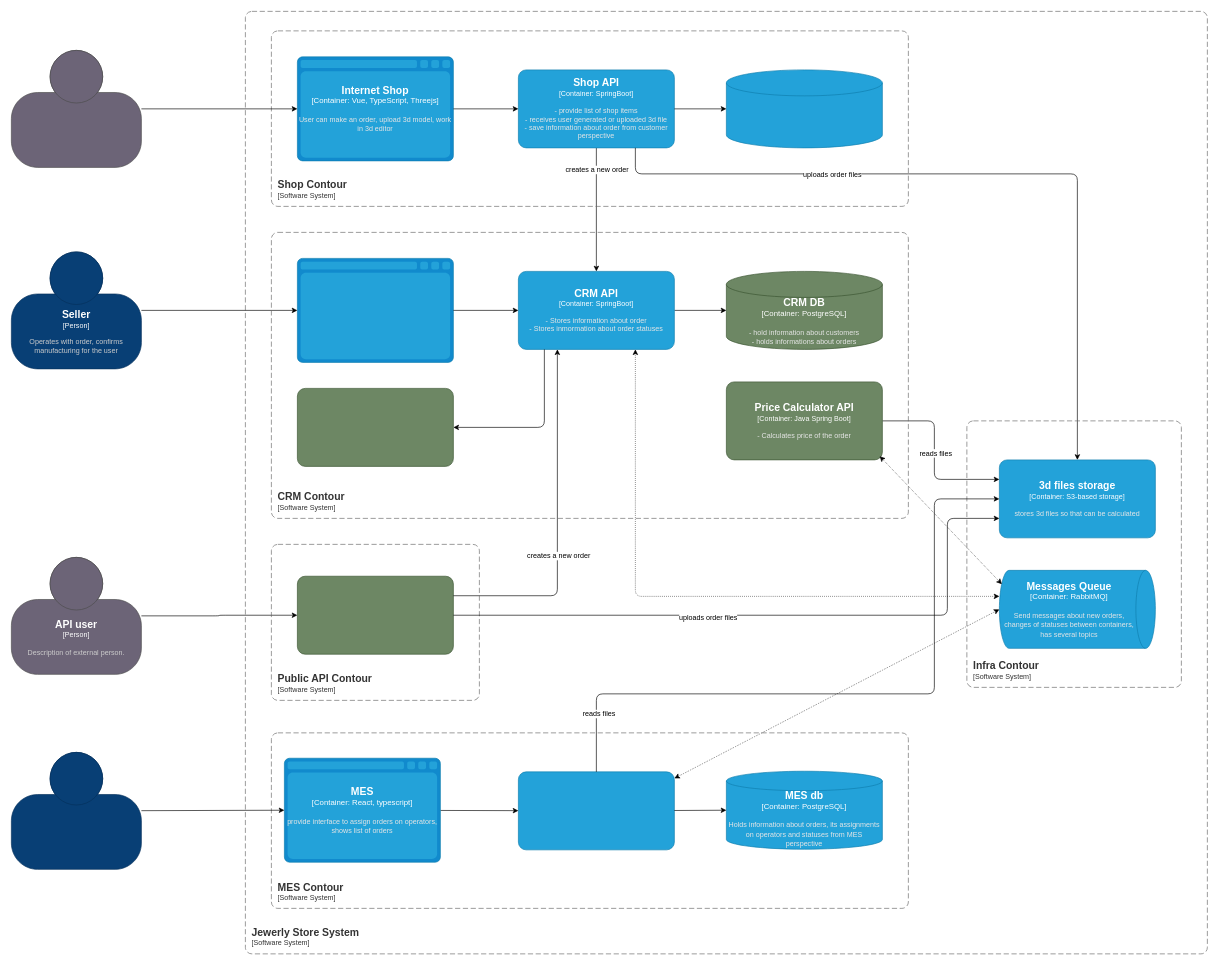
Some shapes in this 1219 by 965 pixel diagram are drawn without their labels. Here are the shapes that lost their labels. From the top down, the centre of each, then its label:
point 76,108: Customer [Person] Description of external person.
point 804,108: Shop DB [Container: PostgreSQL] - Holds information about products
point 375,310: CRM [Container: Vue, Typescript] - Provides access to CRM data for managers
point 375,427: Cache [Container: Redis] - Caches most frequent requests
point 375,615: Public API Service [Container: Java Spring Boot] - Provides access to API
point 76,810: Operator [Person] Takes order in work, manufactures jewerly
point 596,810: MES API [Container: C#] - Assigns orders on operators - Shows list of orders
